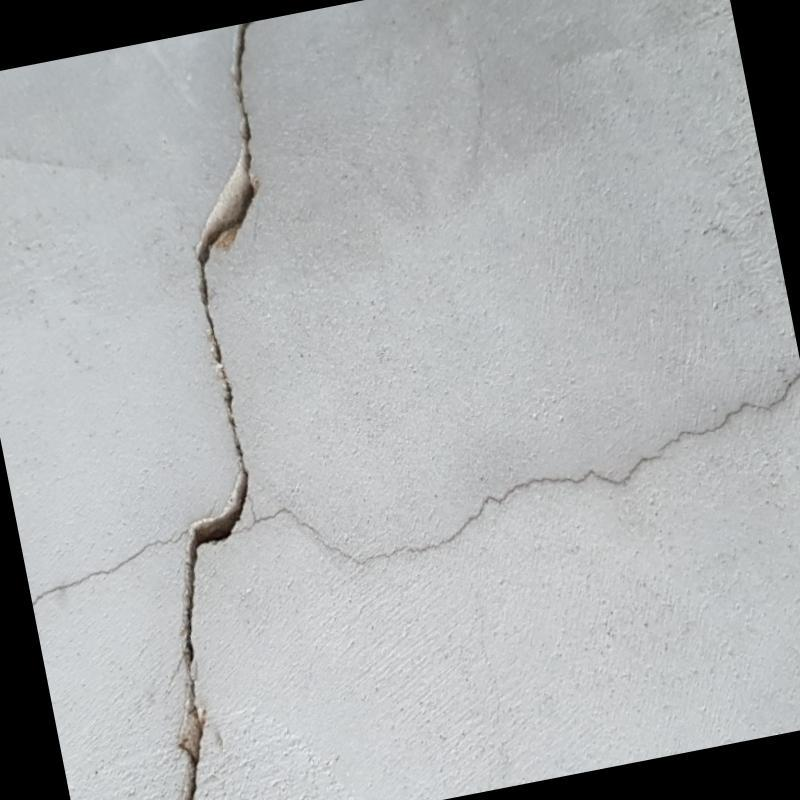crack: (229, 373, 800, 564), (178, 25, 255, 800), (31, 528, 187, 608)
